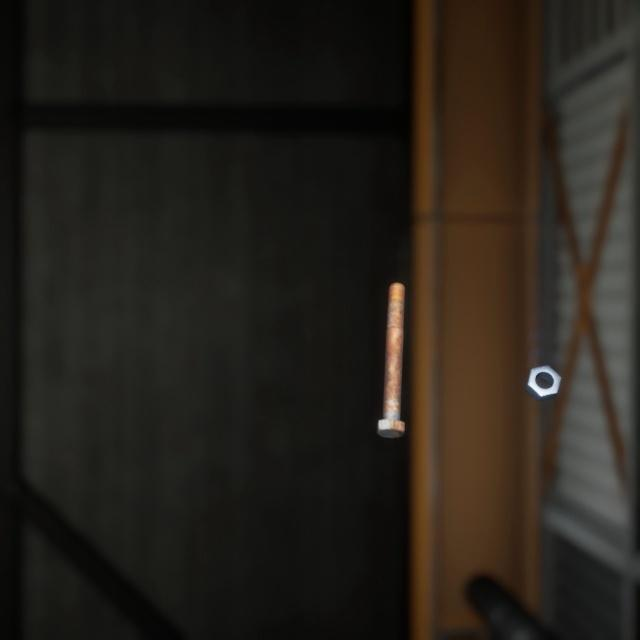bolt: (372, 261, 409, 424)
nut: (520, 341, 565, 386)
